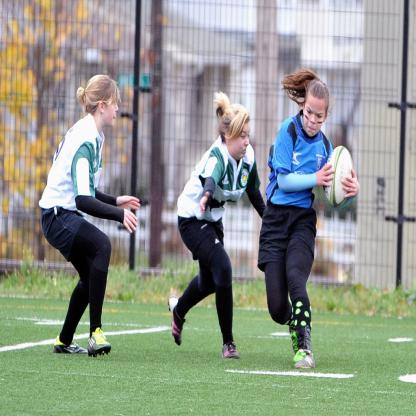Ball: (323, 143, 355, 210)
